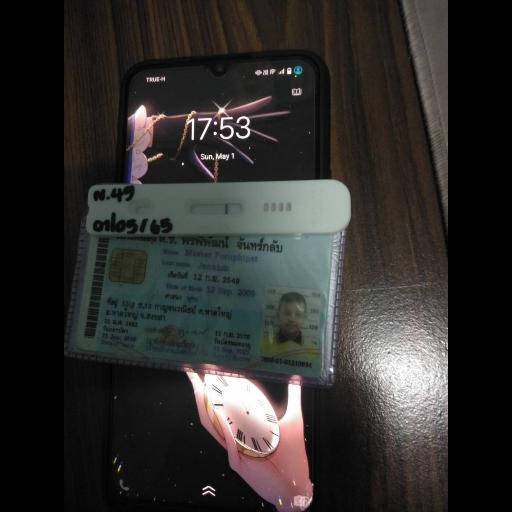Neg: (89, 180, 351, 235)
